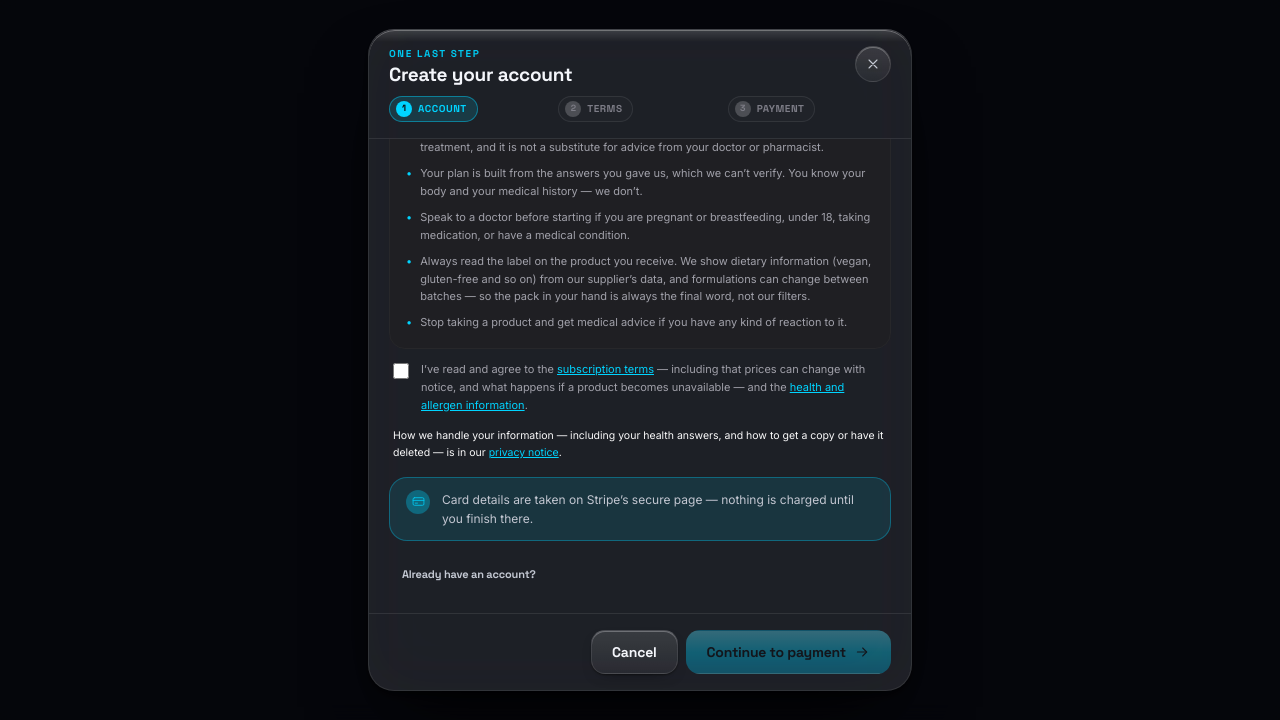
AccountGate password reset › offers one to a member signing in
(page scrolled)
Click the button "Already have an account?" at (469, 575), box left=389, top=557, right=549, bottom=593
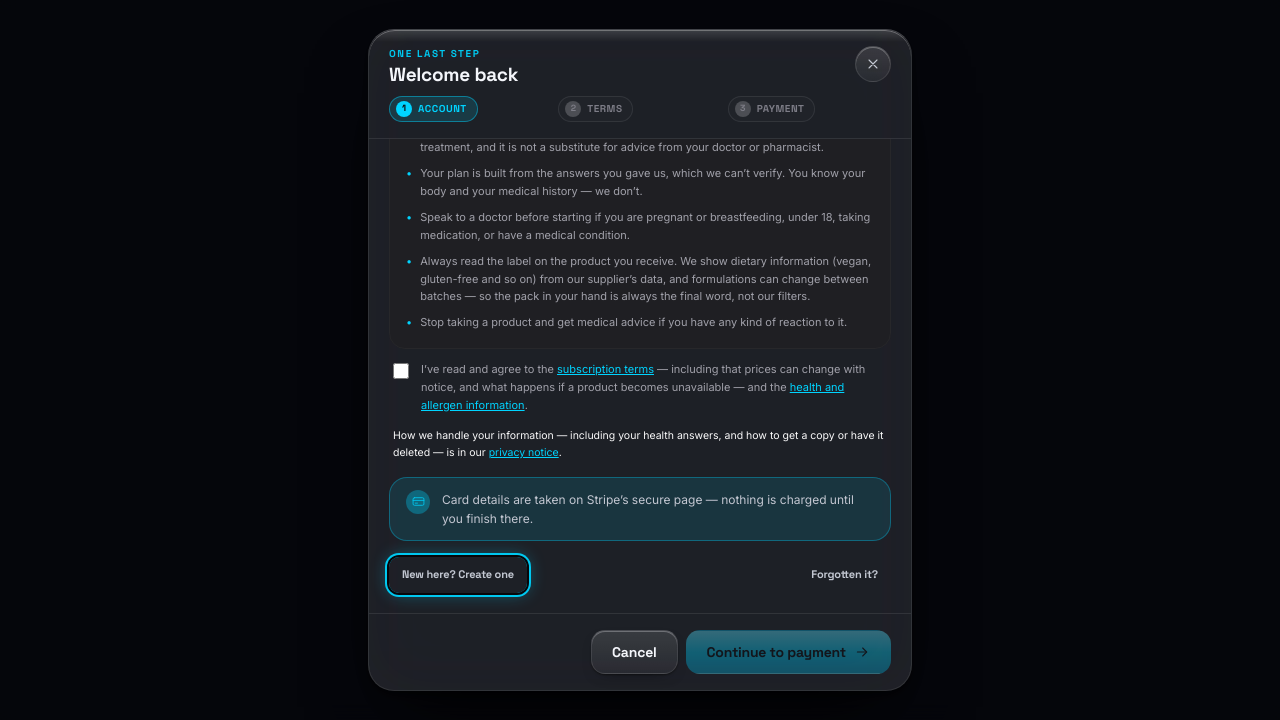
Check: the button "Forgotten it?" is shown, box left=798, top=557, right=891, bottom=593
